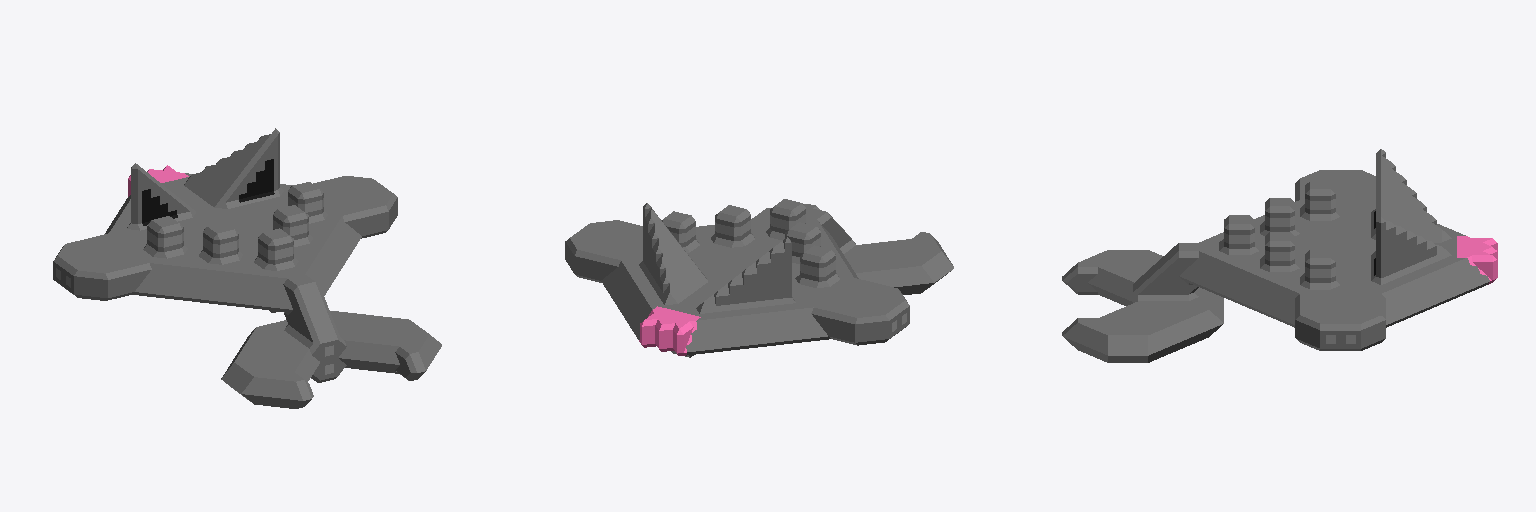
The picture shows the model from 3 angles: view 1: azimuth 30°, elevation 25°; view 2: azimuth 150°, elevation 25°; view 3: azimuth 270°, elevation 25°; orthographic projection.
Size of the model in its own units: 37 by 16 by 43.
Materials: 1 (1 with a texture image).